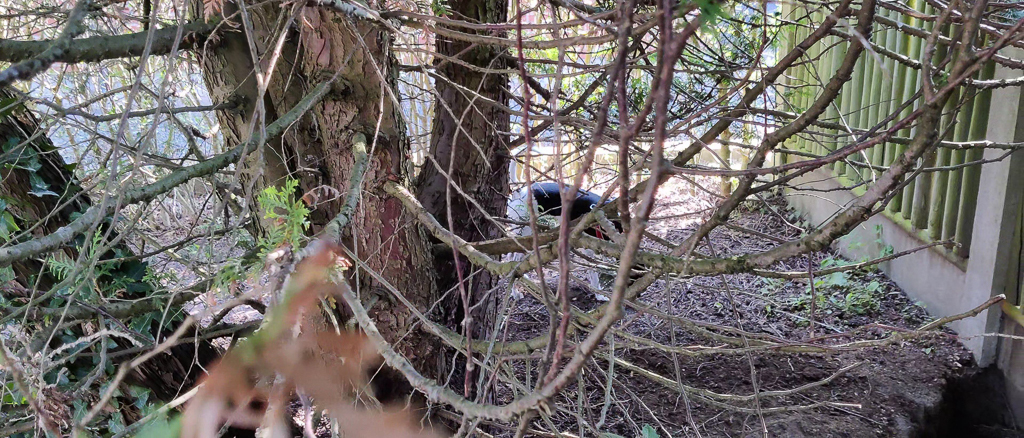Dog: (500, 133, 661, 309)
